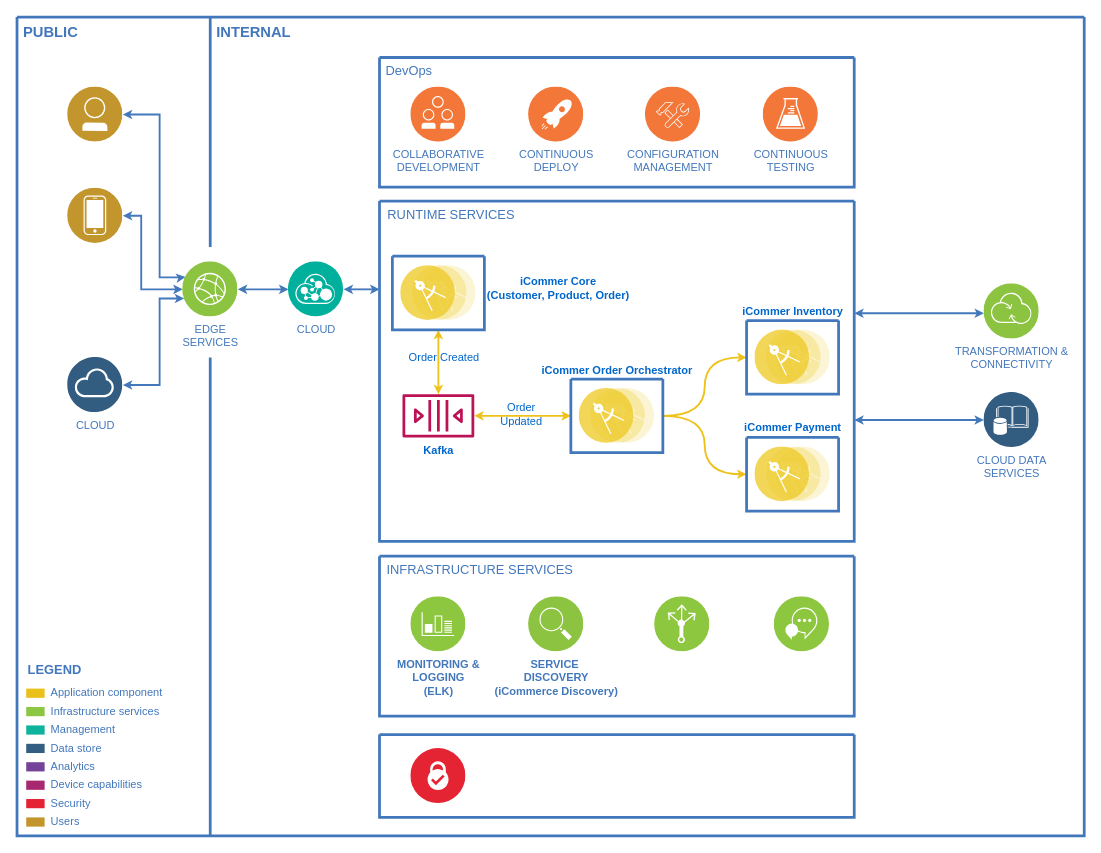
Image size: 1101x853. Some labels were removed from this diagram. Each missing label, with the centre of its shape:
"CLOUD USER" belongs at pixel 94 114.
"DEVICES" belongs at pixel 94 215.
"INTERSERVICE COMMUNICATION (HTTP, TCP, MQ)" belongs at pixel 801 623.
"LOAD BALANCING ROUTING (iCommerce Gateway)" belongs at pixel 681 623.
"SECURITY (OAUTH 2, OKTA)" belongs at pixel 438 775.
